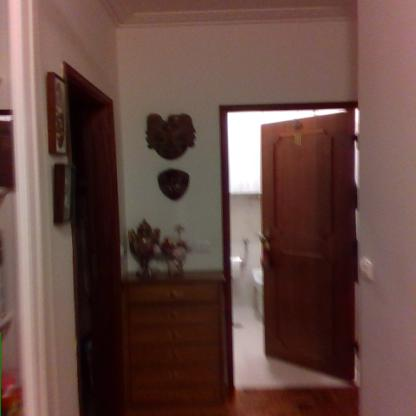semi: (205, 98, 390, 392)
